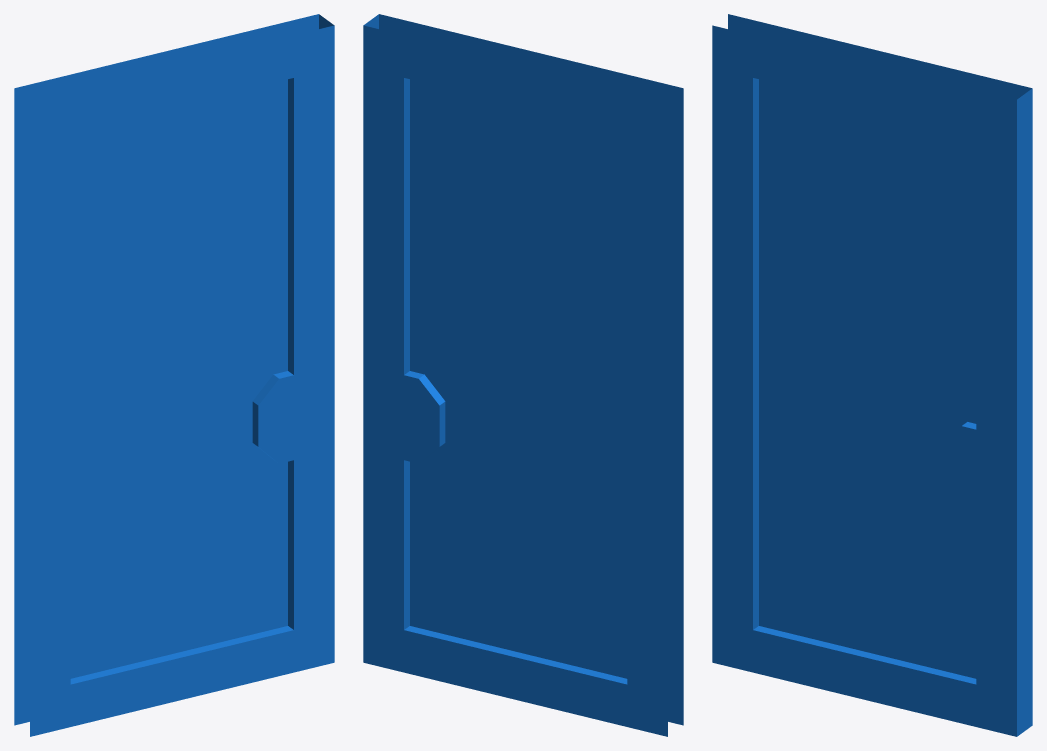
The model's file is Door_right.fbx.
The picture shows the model from 3 angles, left to right: view 1: azimuth 30°, elevation 25°; view 2: azimuth 150°, elevation 25°; view 3: azimuth 330°, elevation 25°; orthographic projection.
Visible parts, largest first — view 1: Door_Right; view 2: Door_Right; view 3: Door_Right.
Boxes of the visible parts, box(x1,y1,x2,y2) form: Door_Right: box(14, 14, 334, 736); Door_Right: box(363, 14, 683, 736); Door_Right: box(712, 14, 1032, 736).
Size of the model in its own units: 150 by 300 by 13.33.
